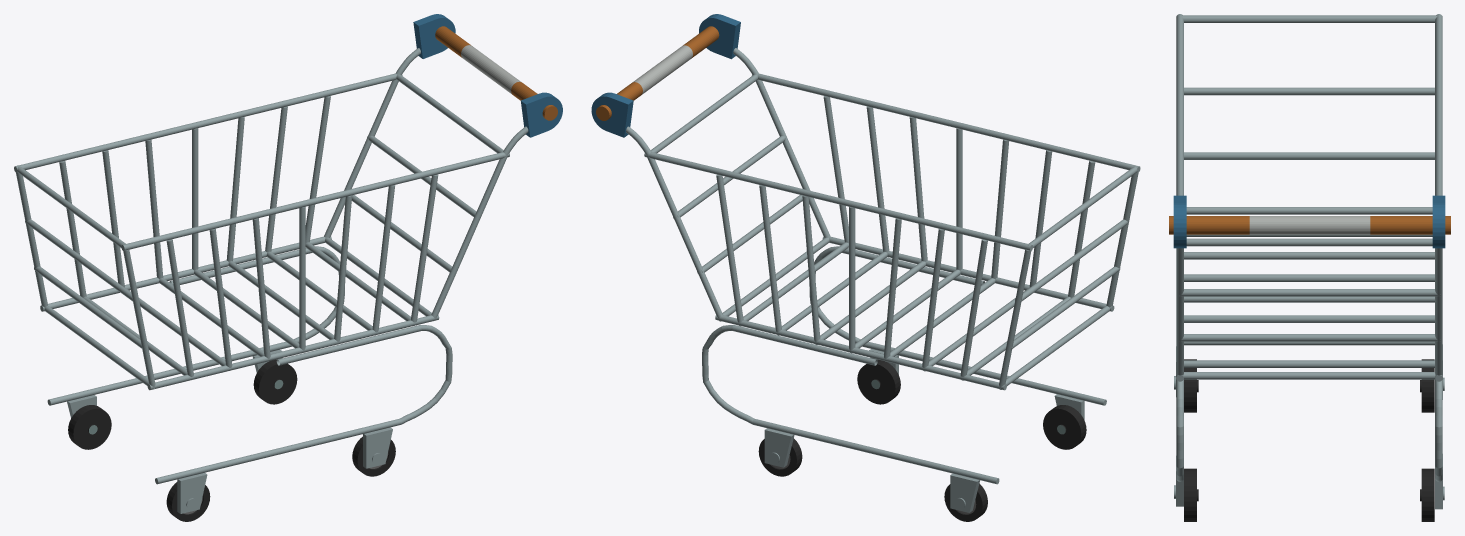
Rendered from lwbaa_trolley.gltf.
3 renders of one model, left to right at view 1: azimuth 30°, elevation 25°; view 2: azimuth 150°, elevation 25°; view 3: azimuth 270°, elevation 25°, orthographic. The views are drawn at different scales.
Visible parts, largest first — view 1: ShoppingTrolley; view 2: ShoppingTrolley; view 3: ShoppingTrolley.
Boxes of the visible parts, x1,y1,x2,y2 form: ShoppingTrolley: (14,14,562,521); ShoppingTrolley: (591,14,1140,521); ShoppingTrolley: (1169,14,1450,521).
Bounding box in the file's own units: 1.43 × 1.07 × 0.6618.
